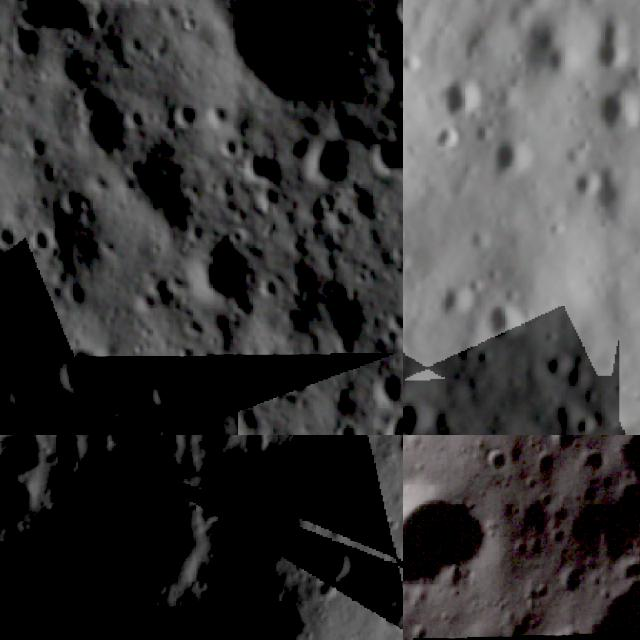crater: (403, 457, 516, 623), (289, 524, 386, 621), (476, 122, 554, 202), (470, 287, 546, 368), (426, 61, 506, 137), (177, 240, 262, 308), (576, 8, 640, 90), (579, 72, 640, 155), (420, 270, 486, 334), (303, 132, 358, 188), (558, 157, 612, 213), (403, 384, 454, 435), (237, 142, 286, 194), (423, 111, 471, 160), (55, 348, 107, 389), (478, 441, 518, 482), (278, 357, 312, 402), (565, 401, 608, 435), (574, 445, 608, 484), (377, 435, 403, 478), (528, 449, 560, 482), (545, 435, 581, 456), (201, 427, 238, 435)
